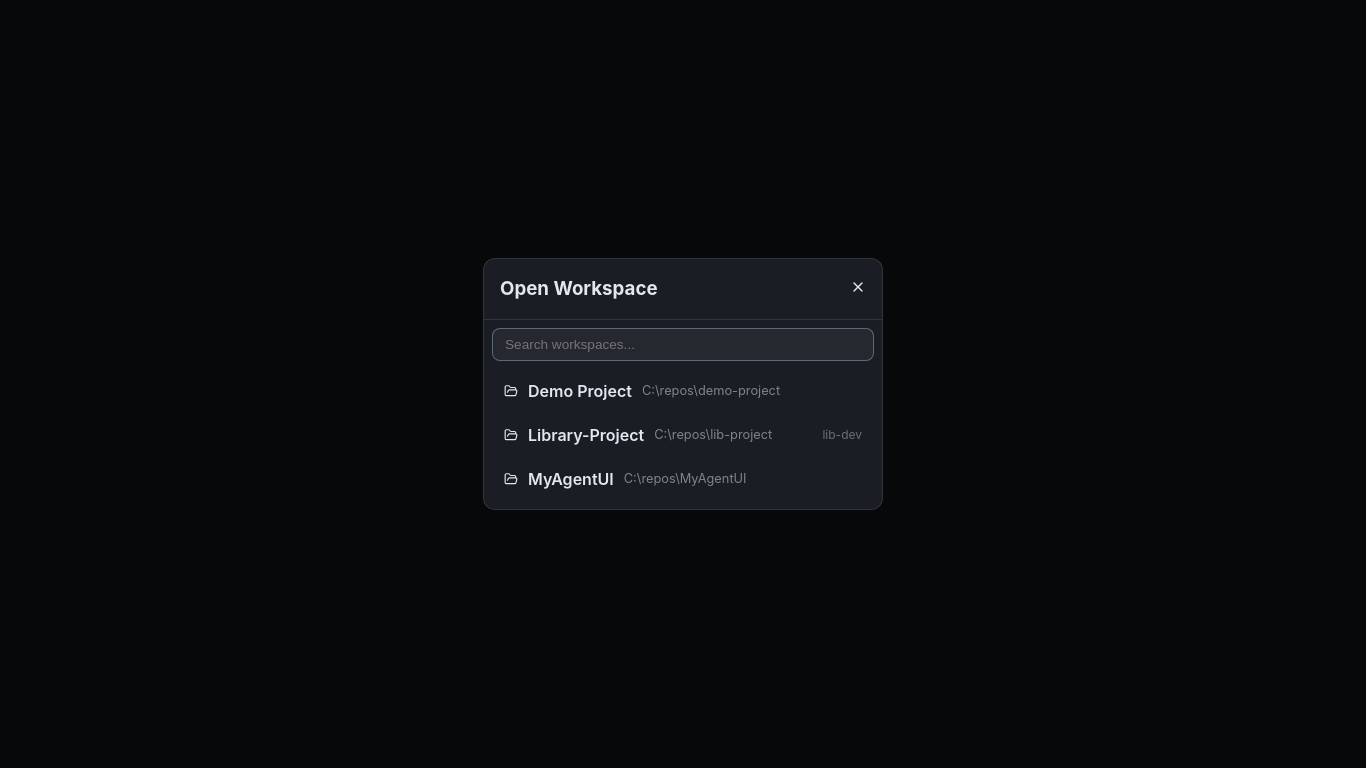
Test: WorkspacePickerModal › filters workspaces by path
Type "MyAgentUI" into the field with placeholder "Search workspaces..." at x=683, y=344, box [492, 328, 874, 361]
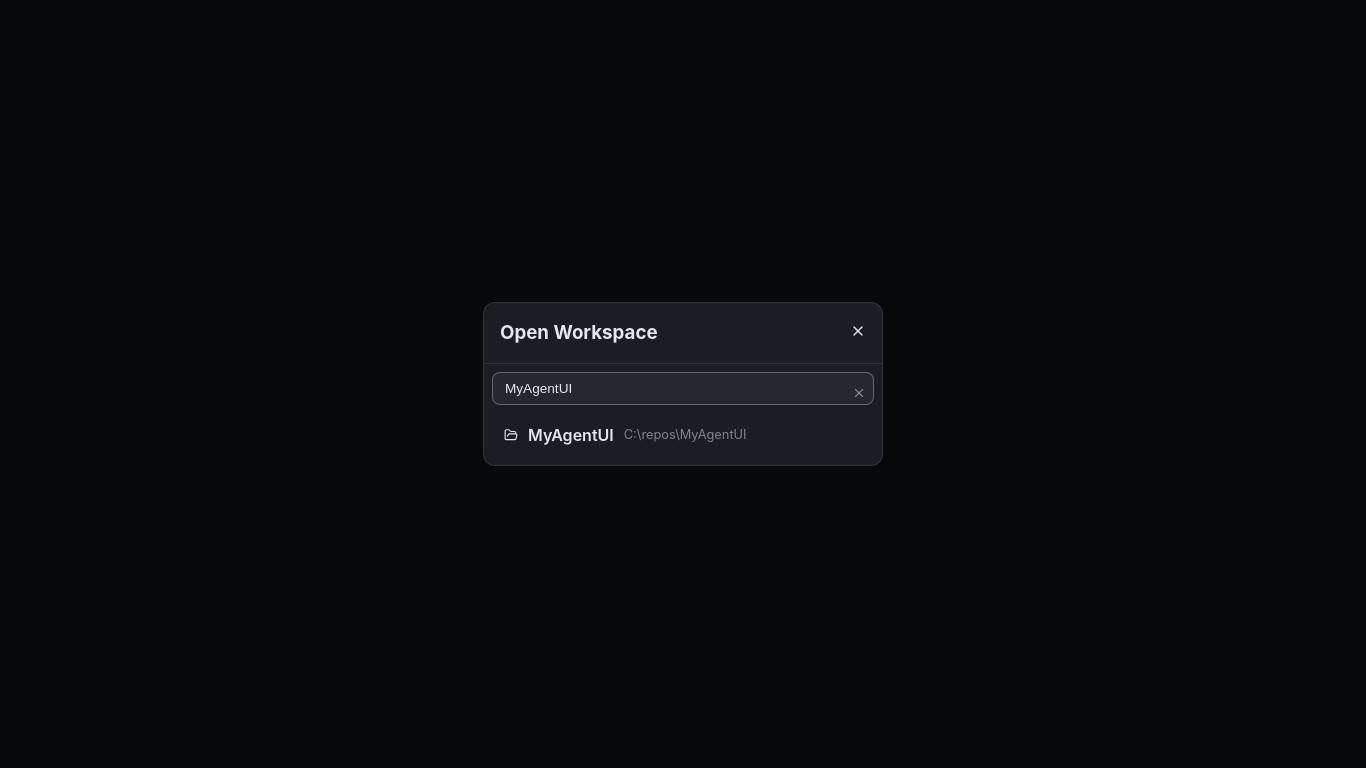
Expected: the text "MyAgentUI" is shown, [528, 423, 614, 447]
Expected: the text "Demo Project" is gone
